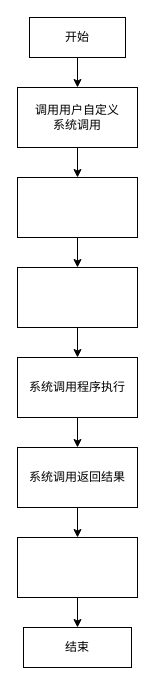
Some shapes in this 155 by 685 pixel diagram are drawn without their labels. The shapes that lost their labels are listed below. From the top down, each one's box as (x1, y1, x2, y2) in pixels, then its label:
(16, 176, 138, 238): linux根据调用号调用对应的系统调用
(16, 266, 138, 328): 将参数传递给 系统调用
(16, 536, 138, 598): 返回测试程序 输出结果
